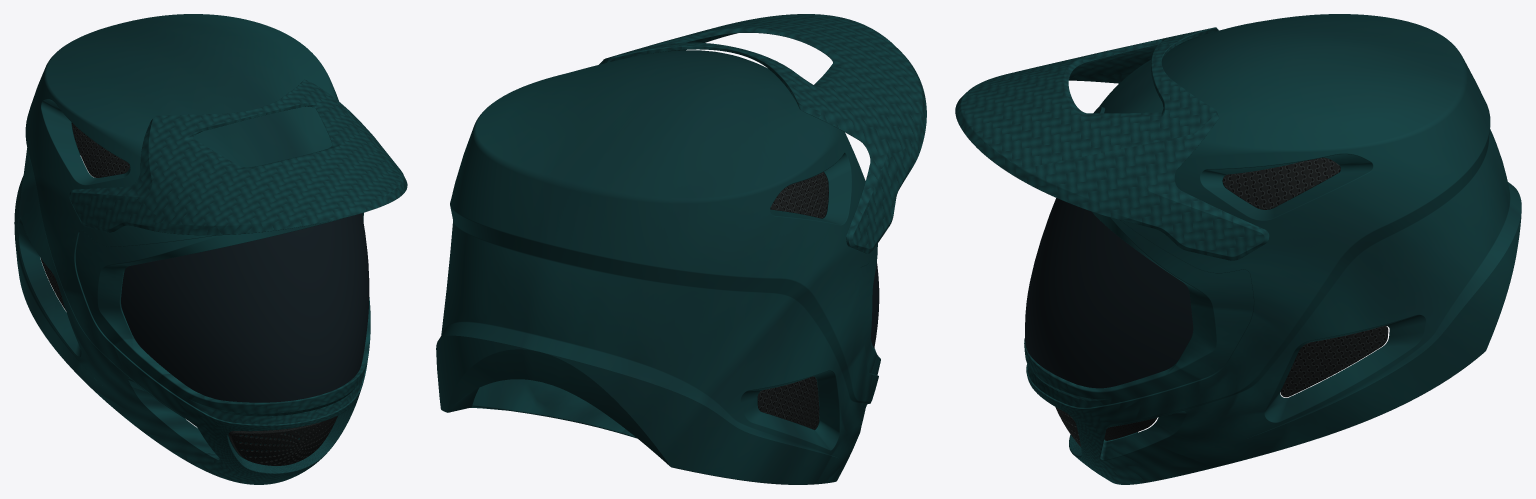
File: helmet-blender.glb
3 renders of one model, left to right at view 1: azimuth 30°, elevation 25°; view 2: azimuth 150°, elevation 25°; view 3: azimuth 270°, elevation 25°, orthographic. The views are drawn at different scales.
Visible parts, largest first — view 1: 头盔本体, 面罩, 迎风罩.001, Sheet_492, Extruded.006; view 2: 头盔本体, 迎风罩.001, Extruded.005, Extruded.006, 面罩; view 3: 头盔本体, 迎风罩.001, 面罩, Extruded.001, Extruded.002.
Boxes of the visible parts, x1,y1,x2,y2 form: 头盔本体: (14, 14, 370, 484); 面罩: (121, 213, 369, 402); 迎风罩.001: (69, 79, 407, 235); Sheet_492: (228, 416, 337, 465); Extruded.006: (71, 123, 129, 177); 头盔本体: (436, 50, 880, 484); 迎风罩.001: (599, 14, 926, 253); Extruded.005: (757, 376, 819, 429); Extruded.006: (770, 172, 828, 218); 面罩: (822, 172, 879, 348); 头盔本体: (1024, 14, 1521, 484); 迎风罩.001: (955, 27, 1269, 260); 面罩: (1025, 198, 1193, 388); Extruded.001: (1222, 157, 1340, 209); Extruded.002: (1280, 325, 1388, 397).
Bounding box in the file's own units: 3.47 × 4.36 × 5.19.
5 materials, 4 textured.
